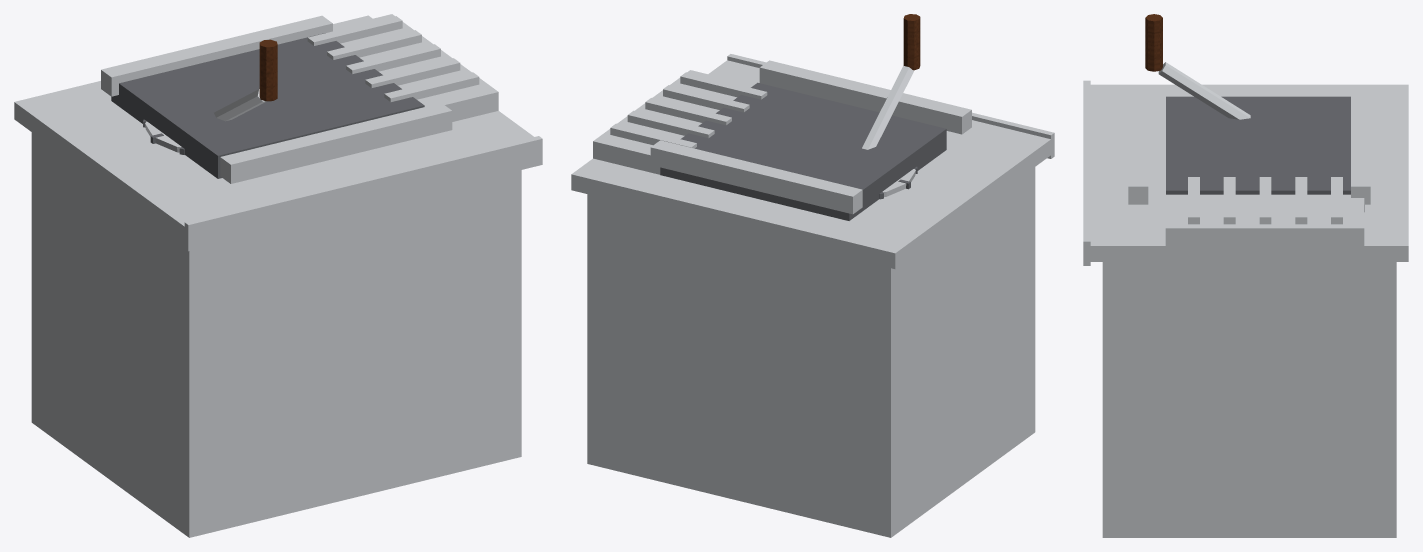
The model's file is noodle_boiling_well.glb.
The picture shows the model from 3 angles, left to right: view 1: azimuth 30°, elevation 25°; view 2: azimuth 150°, elevation 25°; view 3: azimuth 270°, elevation 25°; orthographic projection. The views are drawn at different scales.
Visible parts, largest first — view 1: noodle-boiling-well-steel, noodle-boiling-well-charcoal, basket/darkwood, basket/steel; view 2: noodle-boiling-well-steel, noodle-boiling-well-charcoal, basket/steel, basket/darkwood; view 3: noodle-boiling-well-steel, noodle-boiling-well-charcoal, basket/steel, basket/darkwood.
Part boxes in pixels (x1,y1,x2,y2): noodle-boiling-well-steel: [14, 14, 542, 537]; noodle-boiling-well-charcoal: [111, 33, 424, 178]; basket/darkwood: [259, 39, 277, 101]; basket/steel: [145, 89, 266, 152]; noodle-boiling-well-steel: [571, 54, 1054, 537]; noodle-boiling-well-charcoal: [660, 82, 946, 220]; basket/steel: [862, 66, 915, 196]; basket/darkwood: [903, 14, 920, 70]; noodle-boiling-well-steel: [1083, 80, 1408, 537]; noodle-boiling-well-charcoal: [1166, 96, 1364, 211]; basket/steel: [1158, 62, 1250, 119]; basket/darkwood: [1145, 14, 1162, 71].
Size of the model in its own units: 0.96 by 1.16 by 0.818.
3 materials, 1 textured.
